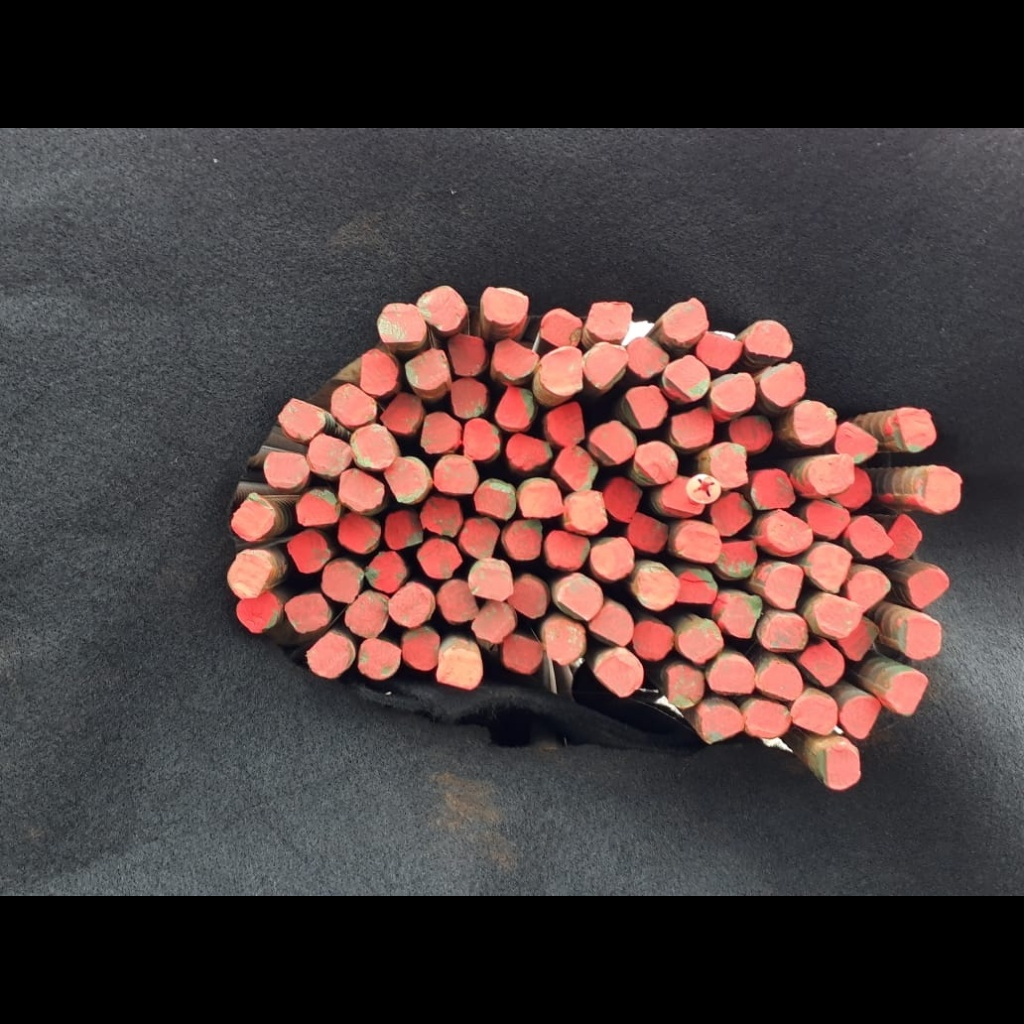dipstick: (417, 286, 467, 331), (538, 346, 583, 395), (588, 420, 637, 465), (807, 544, 852, 593), (306, 633, 355, 677), (761, 512, 812, 554), (557, 573, 602, 620), (542, 617, 586, 665), (594, 654, 643, 697), (553, 446, 598, 492), (583, 343, 628, 389), (385, 457, 430, 502), (633, 566, 679, 610), (678, 619, 724, 663), (815, 743, 859, 789), (813, 594, 861, 636), (893, 407, 937, 452), (350, 425, 396, 468), (789, 694, 837, 735), (227, 554, 271, 598), (345, 595, 389, 639), (800, 643, 844, 687), (664, 357, 709, 400), (794, 400, 837, 445), (917, 466, 960, 511), (416, 537, 462, 579), (848, 516, 894, 558), (661, 301, 708, 342), (307, 433, 350, 477), (761, 362, 804, 406), (468, 559, 513, 601), (508, 573, 550, 618), (331, 384, 377, 425), (338, 469, 384, 510), (437, 649, 483, 690), (378, 303, 425, 343), (278, 398, 325, 438), (719, 595, 762, 638), (231, 500, 275, 542), (565, 490, 607, 534), (623, 386, 667, 428), (633, 440, 677, 482), (710, 492, 752, 536), (471, 602, 516, 643), (359, 348, 398, 395), (405, 348, 448, 390), (287, 531, 330, 573), (388, 583, 430, 626), (420, 496, 463, 538), (590, 536, 633, 578), (751, 467, 794, 509), (848, 570, 890, 613), (357, 639, 401, 680), (697, 330, 741, 371), (887, 672, 928, 716), (589, 605, 634, 645), (587, 301, 632, 341), (809, 454, 854, 494), (603, 477, 642, 523), (380, 392, 423, 433), (494, 338, 538, 378), (285, 593, 330, 632), (545, 530, 590, 569), (518, 477, 563, 516), (546, 402, 585, 447), (757, 661, 802, 700), (896, 619, 941, 658), (482, 286, 528, 324), (711, 443, 749, 489), (674, 524, 720, 562), (746, 321, 793, 358), (338, 513, 380, 554), (366, 552, 408, 593), (399, 628, 440, 670), (437, 579, 478, 621), (474, 479, 516, 520), (502, 633, 544, 674), (671, 406, 713, 447), (835, 422, 877, 463), (838, 620, 880, 661), (841, 696, 881, 739), (710, 372, 755, 410), (764, 564, 802, 609), (745, 700, 791, 737), (628, 513, 669, 554), (908, 567, 949, 608), (832, 466, 872, 508), (495, 386, 534, 429), (460, 516, 499, 559), (626, 338, 669, 377), (434, 455, 478, 493), (699, 706, 743, 744), (235, 591, 280, 628), (506, 433, 551, 470), (709, 657, 755, 693), (729, 414, 772, 452), (661, 476, 704, 514), (807, 500, 850, 538), (760, 615, 808, 649), (420, 412, 459, 453), (540, 308, 581, 347), (449, 334, 487, 376), (463, 418, 500, 461), (667, 665, 704, 708), (296, 489, 340, 525), (264, 452, 309, 487), (384, 510, 423, 550), (716, 539, 756, 578), (322, 561, 360, 602), (504, 518, 542, 559), (633, 620, 672, 659), (887, 514, 920, 558), (451, 378, 487, 418), (676, 569, 715, 603)
